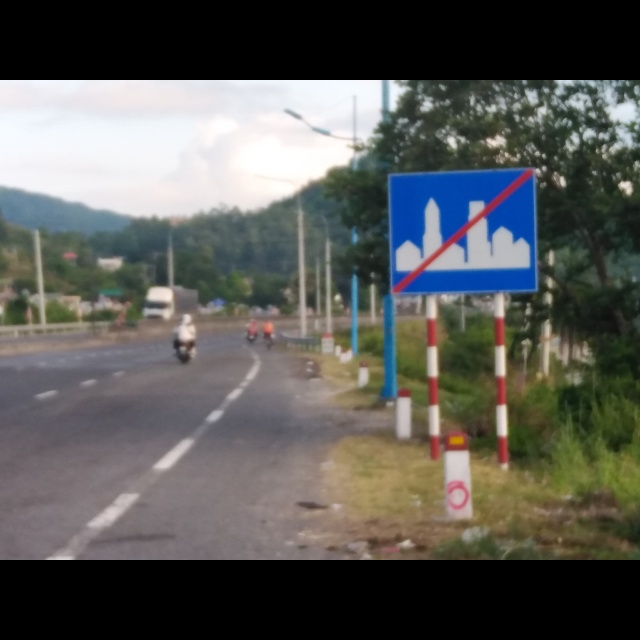Hết khu đông dân cư: (387, 170, 542, 295)
